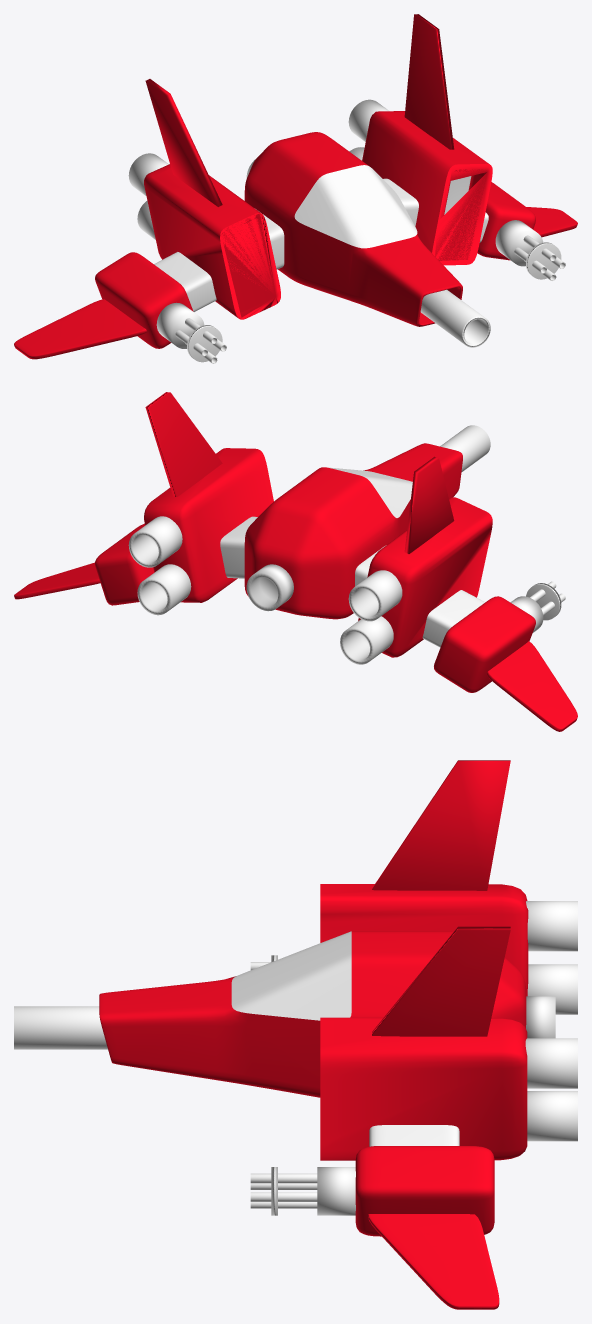
Rendered from r2assaultfighter.fbx.
3 renders of one model, top to bottom at view 1: azimuth 30°, elevation 25°; view 2: azimuth 150°, elevation 25°; view 3: azimuth 270°, elevation 25°, orthographic. The views are drawn at different scales.
Parts seen in each view (by area): view 1: WINGENGINE, HULL, WINGTOP, GLASS, WINGGUN, WINGSIDE, GUNBASE, MAINGUN, Cube.004, TOPENGINE, GUNTUBEHOLDER, Cube.005 (+2 smaller); view 2: WINGENGINE, HULL, WINGGUN, WINGTOP, WINGSIDE, TOPENGINE, BOTTOMENGINE, MIDENGINE, Cube.004, Cube.005, GLASS, MAINGUN (+2 smaller); view 3: WINGENGINE, HULL, WINGTOP, WINGGUN, WINGSIDE, GLASS, TOPENGINE, BOTTOMENGINE, MAINGUN, GUNBASE, Cube.004, MIDENGINE (+1 smaller).
Boxes of the visible parts, left/top/right/bottom form: WINGENGINE: left=144, top=111, right=492, bottom=319; HULL: left=244, top=132, right=462, bottom=326; WINGTOP: left=145, top=14, right=454, bottom=206; GLASS: left=294, top=165, right=417, bottom=248; WINGGUN: left=95, top=182, right=535, bottom=348; WINGSIDE: left=14, top=207, right=577, bottom=359; GUNBASE: left=156, top=220, right=543, bottom=348; MAINGUN: left=420, top=289, right=490, bottom=347; Cube.004: left=154, top=212, right=488, bottom=311; TOPENGINE: left=128, top=99, right=389, bottom=196; GUNTUBEHOLDER: left=187, top=242, right=561, bottom=362; Cube.005: left=256, top=178, right=418, bottom=269; WINGENGINE: left=144, top=448, right=492, bottom=657; HULL: left=244, top=443, right=462, bottom=619; WINGGUN: left=95, top=523, right=535, bottom=692; WINGTOP: left=145, top=392, right=454, bottom=553; WINGSIDE: left=14, top=562, right=577, bottom=731; TOPENGINE: left=128, top=516, right=402, bottom=621; BOTTOMENGINE: left=137, top=564, right=393, bottom=664; MIDENGINE: left=246, top=564, right=293, bottom=611; Cube.004: left=422, top=590, right=485, bottom=647; Cube.005: left=220, top=516, right=386, bottom=586; GLASS: left=329, top=467, right=412, bottom=517; MAINGUN: left=440, top=425, right=490, bottom=472; WINGENGINE: left=320, top=884, right=528, bottom=1160; HULL: left=99, top=931, right=526, bottom=1097; WINGTOP: left=372, top=760, right=510, bottom=1036; WINGGUN: left=355, top=1146, right=494, bottom=1236; WINGSIDE: left=368, top=1214, right=499, bottom=1309; GLASS: left=231, top=931, right=351, bottom=1020; TOPENGINE: left=525, top=901, right=577, bottom=1088; BOTTOMENGINE: left=527, top=964, right=577, bottom=1141; MAINGUN: left=14, top=1006, right=107, bottom=1049; GUNBASE: left=317, top=1167, right=355, bottom=1215; Cube.004: left=369, top=1125, right=459, bottom=1146; MIDENGINE: left=526, top=996, right=555, bottom=1038.
Size of the model in its own units: 1683 by 675 by 1170.
